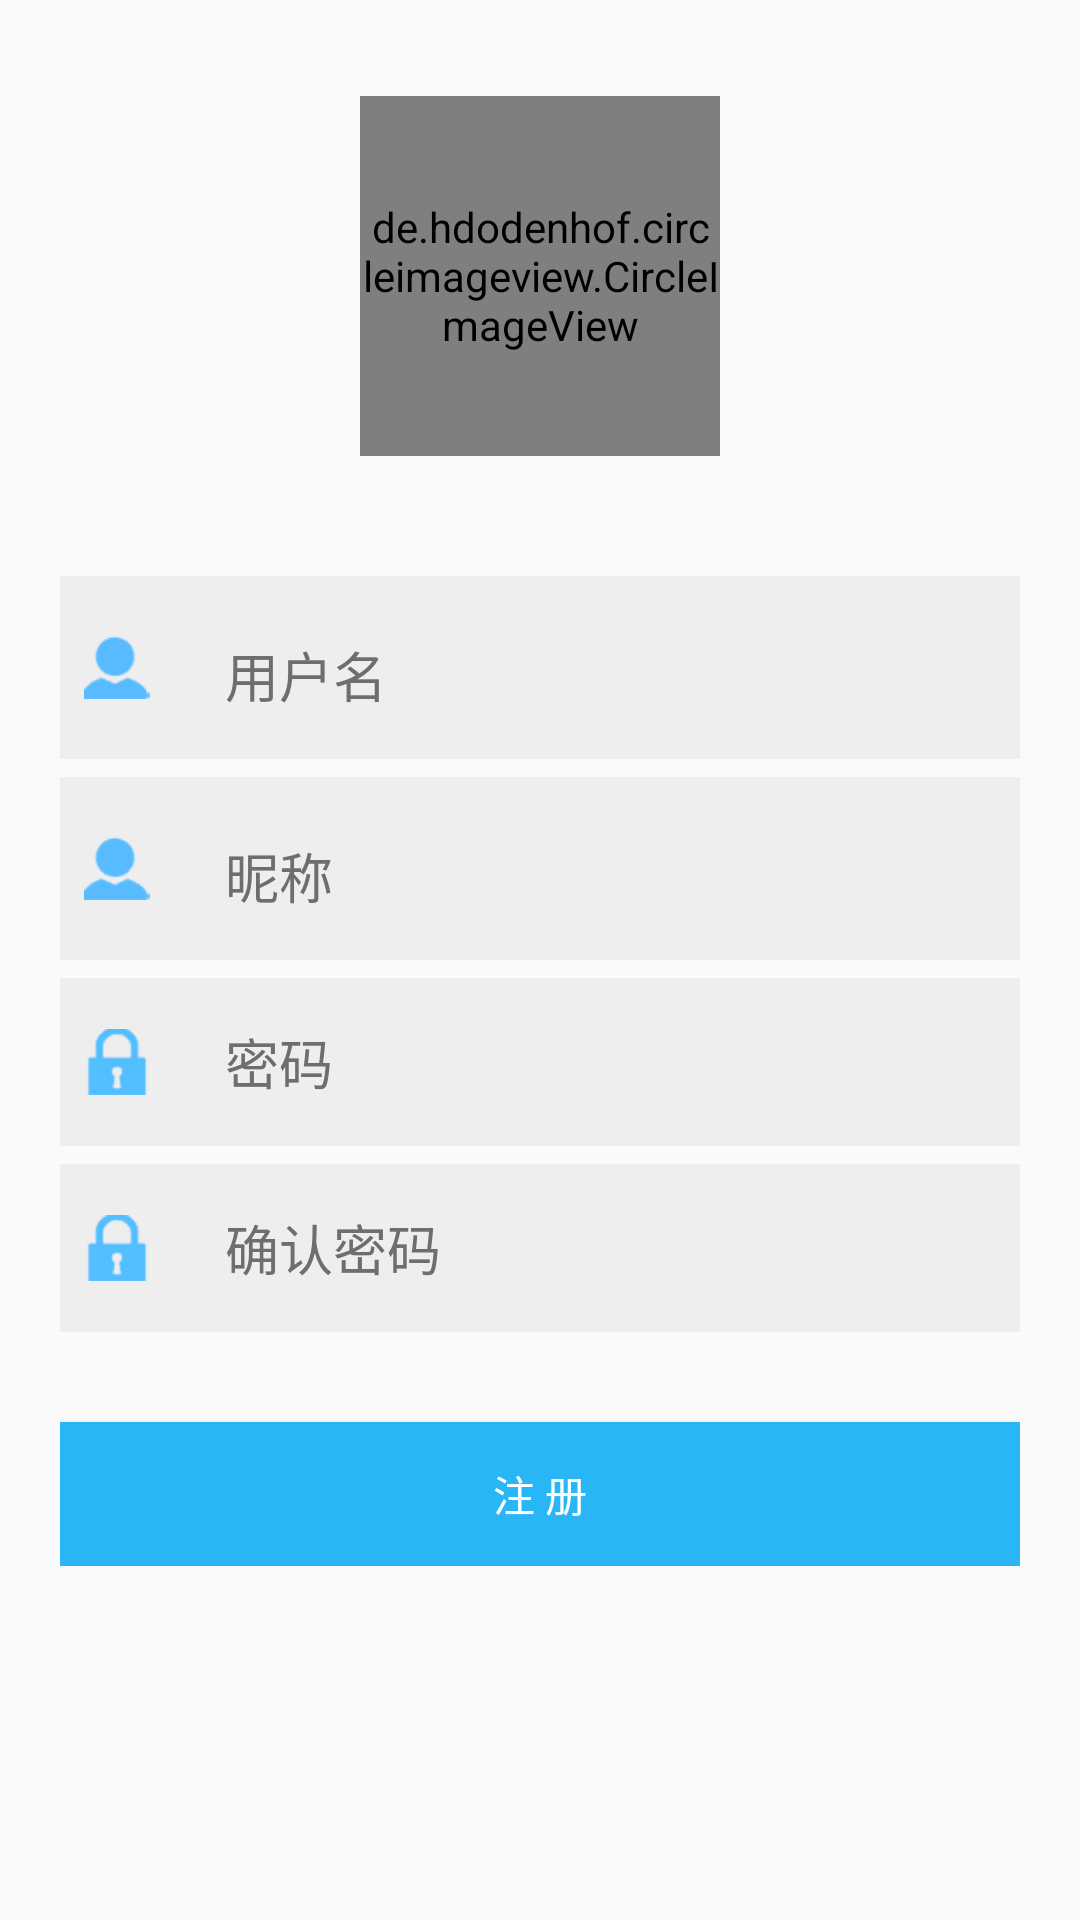

Icons on this 1080×1920 Android screen, each with the point to tap as (x=x, y=y):
login code in: (x=117, y=1062), (x=117, y=1248)
login usr in: (x=117, y=667), (x=117, y=868)
